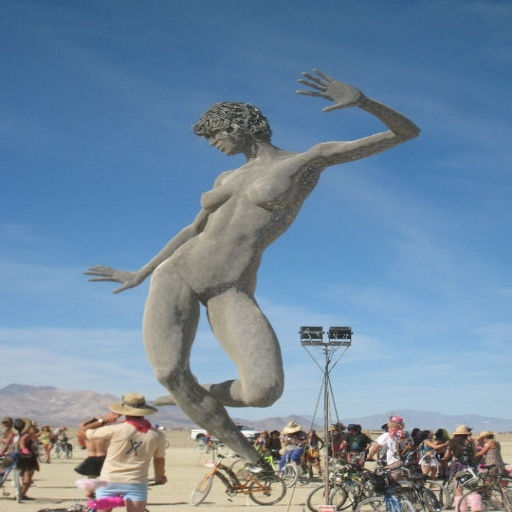hand: (296, 66, 375, 107), (79, 260, 142, 295), (104, 411, 122, 423), (150, 475, 167, 484)
